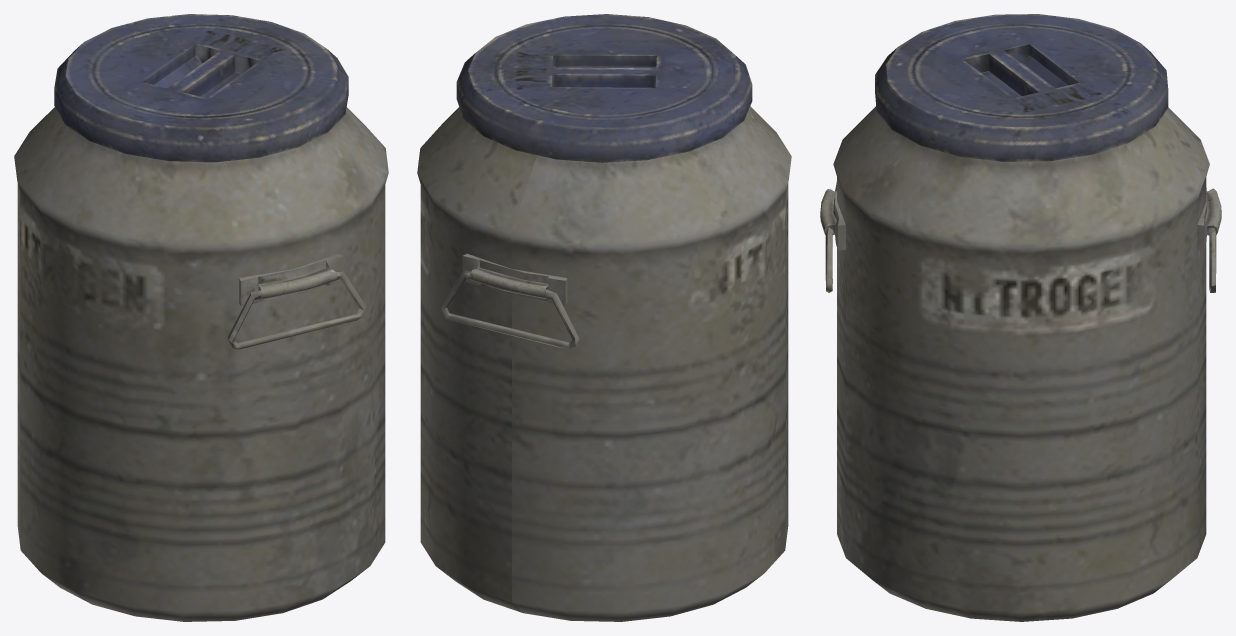
The model's file is sm22_077_liquidnitrogen01a.fbx.
3 renders of one model, left to right at view 1: azimuth 30°, elevation 25°; view 2: azimuth 150°, elevation 25°; view 3: azimuth 270°, elevation 25°, orthographic.
Parts seen in each view (by area): view 1: LOD_1_Group_0_Sub_1__sm22_077_LiquidNitrogen01A_A_Mat, LOD_1_Group_1_Sub_1__sm22_077_LiquidNitrogen01A_A_Mat; view 2: LOD_1_Group_0_Sub_1__sm22_077_LiquidNitrogen01A_A_Mat, LOD_1_Group_1_Sub_1__sm22_077_LiquidNitrogen01A_A_Mat; view 3: LOD_1_Group_0_Sub_1__sm22_077_LiquidNitrogen01A_A_Mat, LOD_1_Group_1_Sub_1__sm22_077_LiquidNitrogen01A_A_Mat.
Part boxes in pixels (x1=…): LOD_1_Group_0_Sub_1__sm22_077_LiquidNitrogen01A_A_Mat: x1=14, y1=107, x2=388, y2=621; LOD_1_Group_1_Sub_1__sm22_077_LiquidNitrogen01A_A_Mat: x1=54, y1=14, x2=348, y2=162; LOD_1_Group_0_Sub_1__sm22_077_LiquidNitrogen01A_A_Mat: x1=417, y1=106, x2=791, y2=621; LOD_1_Group_1_Sub_1__sm22_077_LiquidNitrogen01A_A_Mat: x1=456, y1=14, x2=752, y2=162; LOD_1_Group_0_Sub_1__sm22_077_LiquidNitrogen01A_A_Mat: x1=820, y1=106, x2=1221, y2=621; LOD_1_Group_1_Sub_1__sm22_077_LiquidNitrogen01A_A_Mat: x1=875, y1=14, x2=1168, y2=161.
Bounding box in the file's own units: 0.4254 × 0.6006 × 0.4535.
